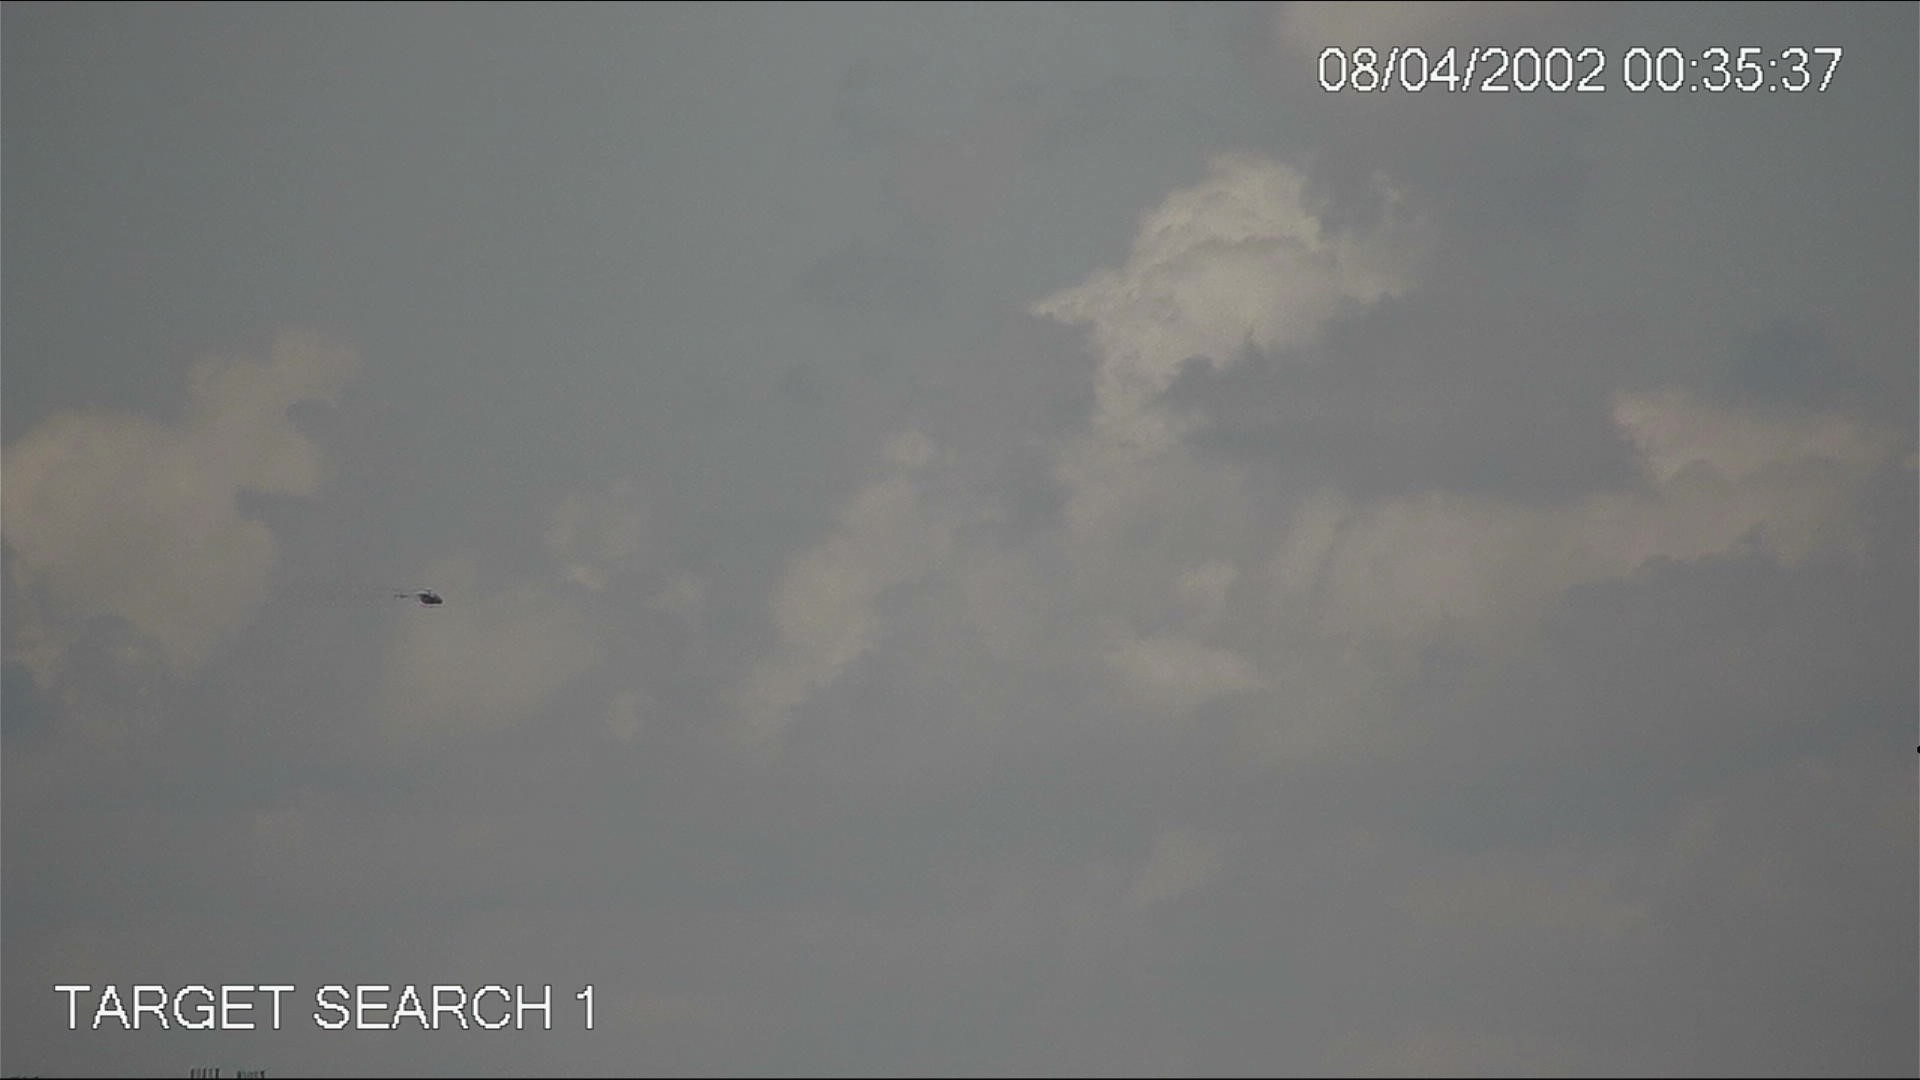SU_30: (393, 588, 448, 613)
